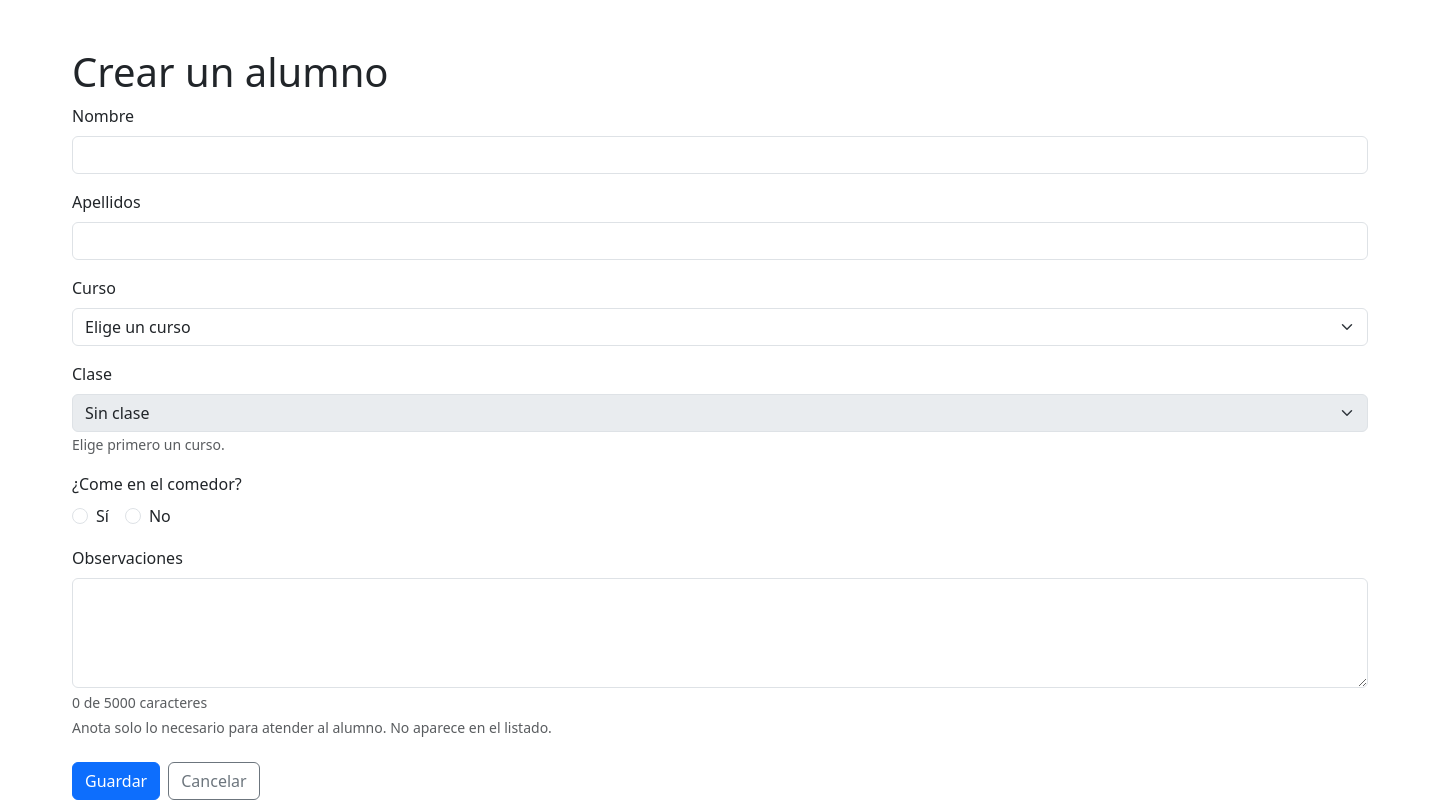
Test: CreateStudentPage › marks the class when it no longer exists, asking for the courses again
This screenshot has width=1440, height=810.
Type "Juan" into the field labelled "Nombre".
click(720, 155); type("Juan")  # box [72,136,1368,174]
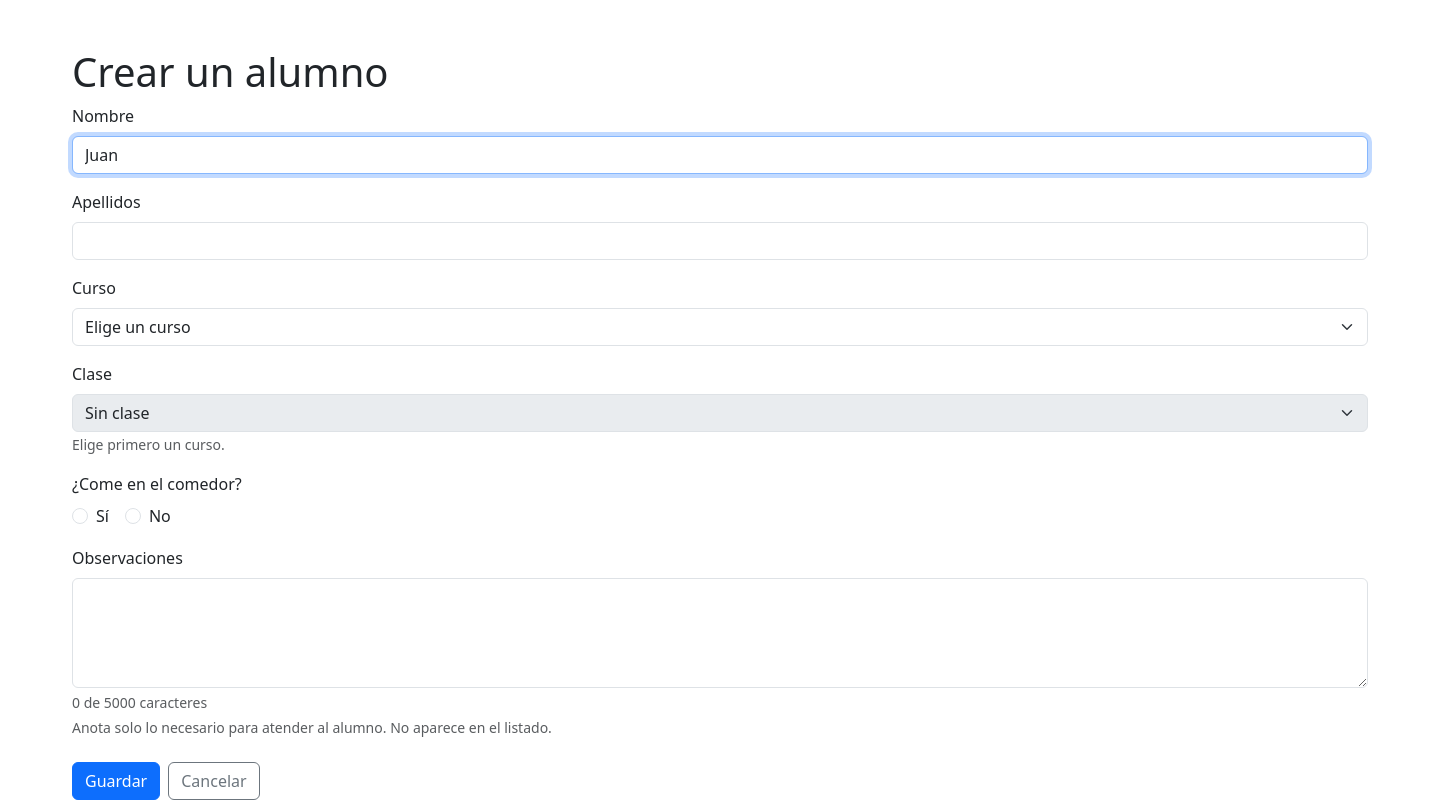
Type "García" into the field labelled "Apellidos".
click(720, 241); type("García")  # box [72,222,1368,260]
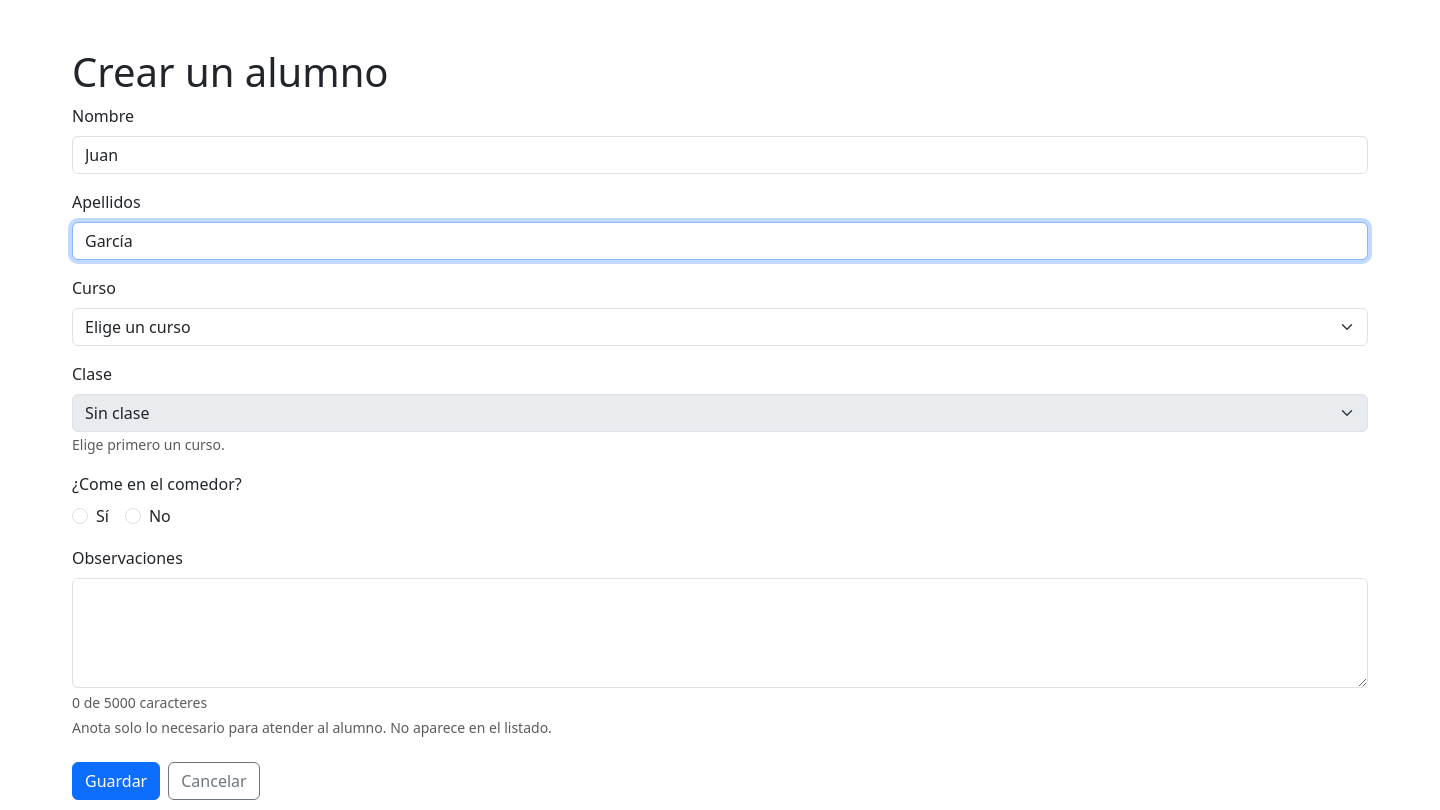
Select "1º Primaria" in the dropdown labelled "Curso" at (720, 327), box [72,308,1368,346]
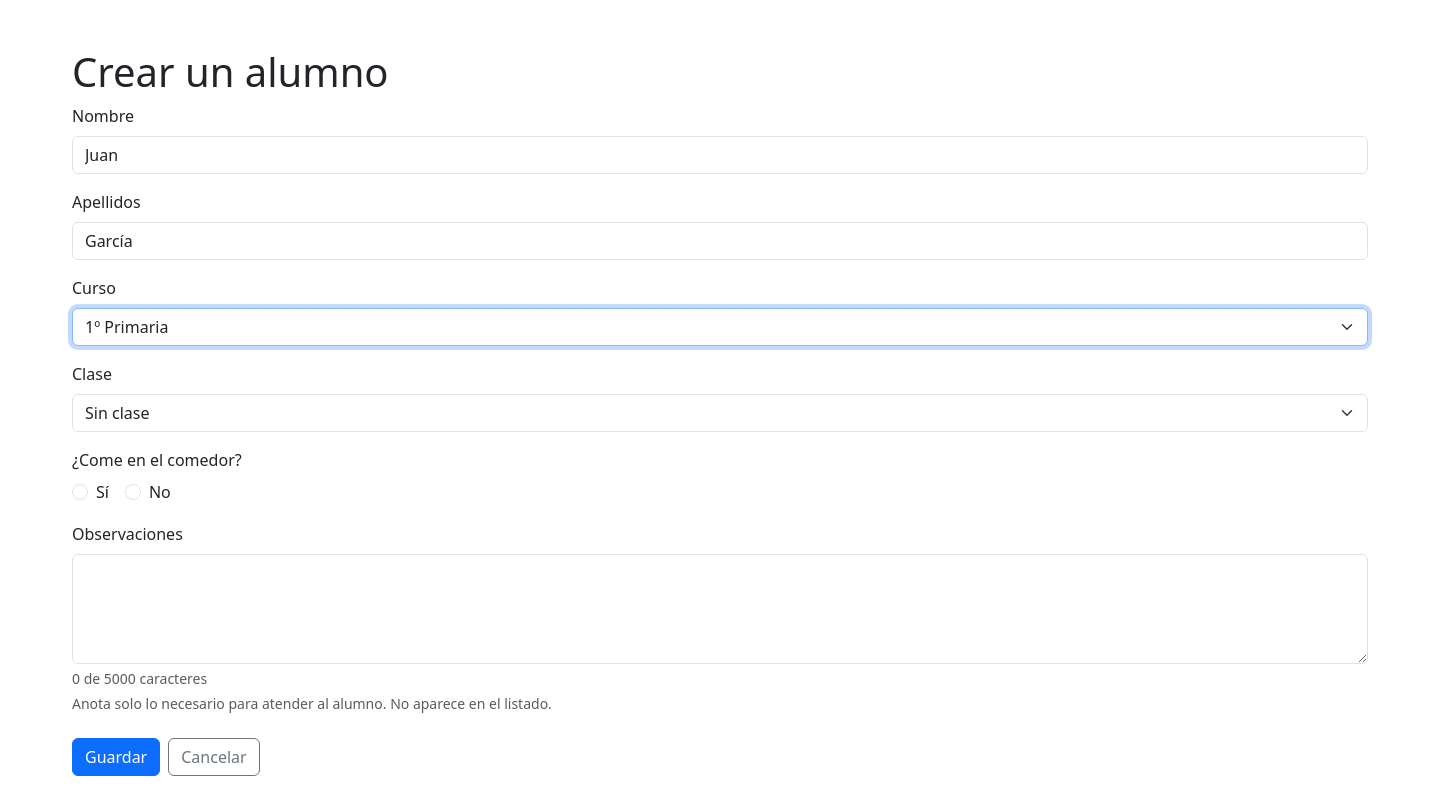
Click the radio button labelled "No".
click(133, 492)  # box [125,484,141,500]
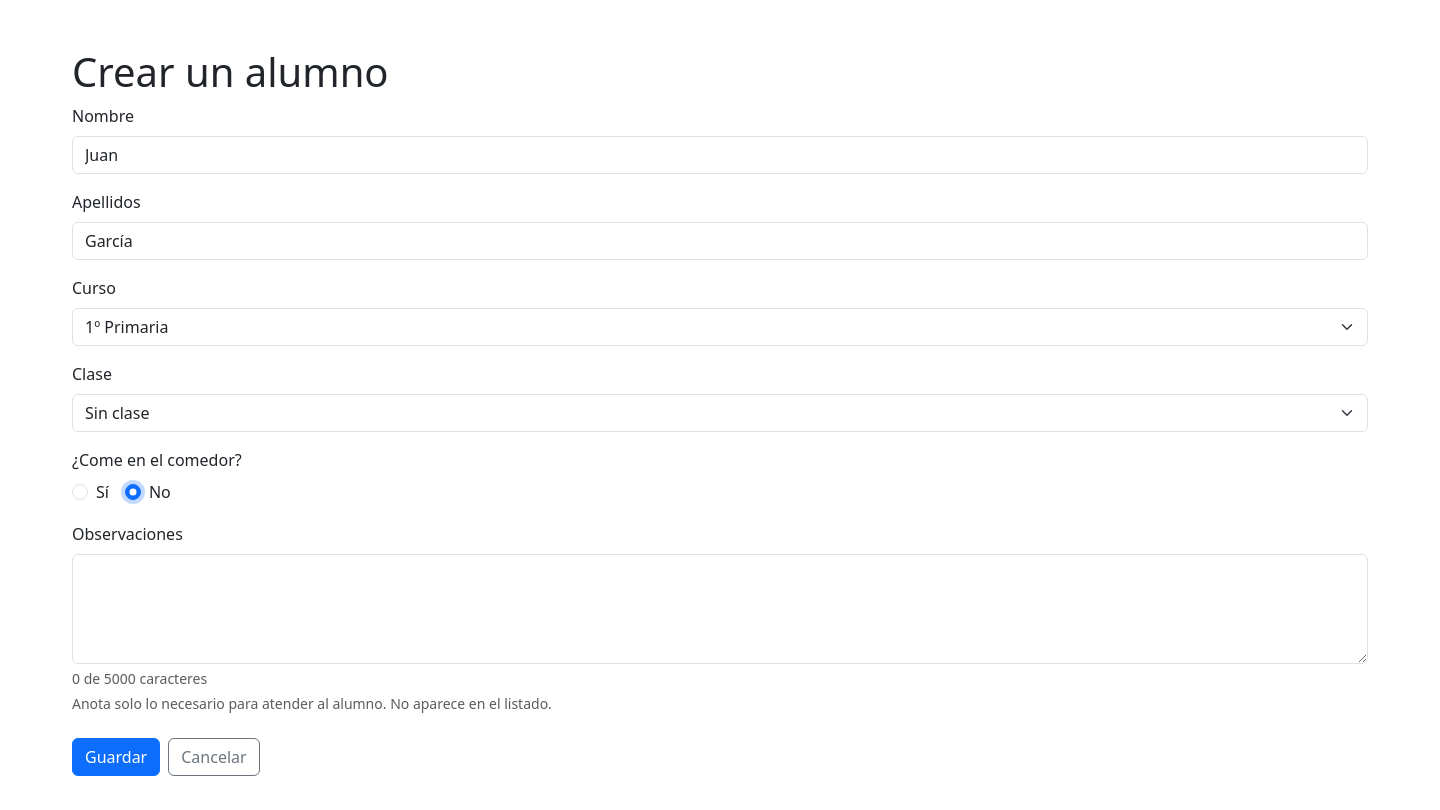
Select "A" in the dropdown labelled "Clase" at (720, 413), box [72,394,1368,432]
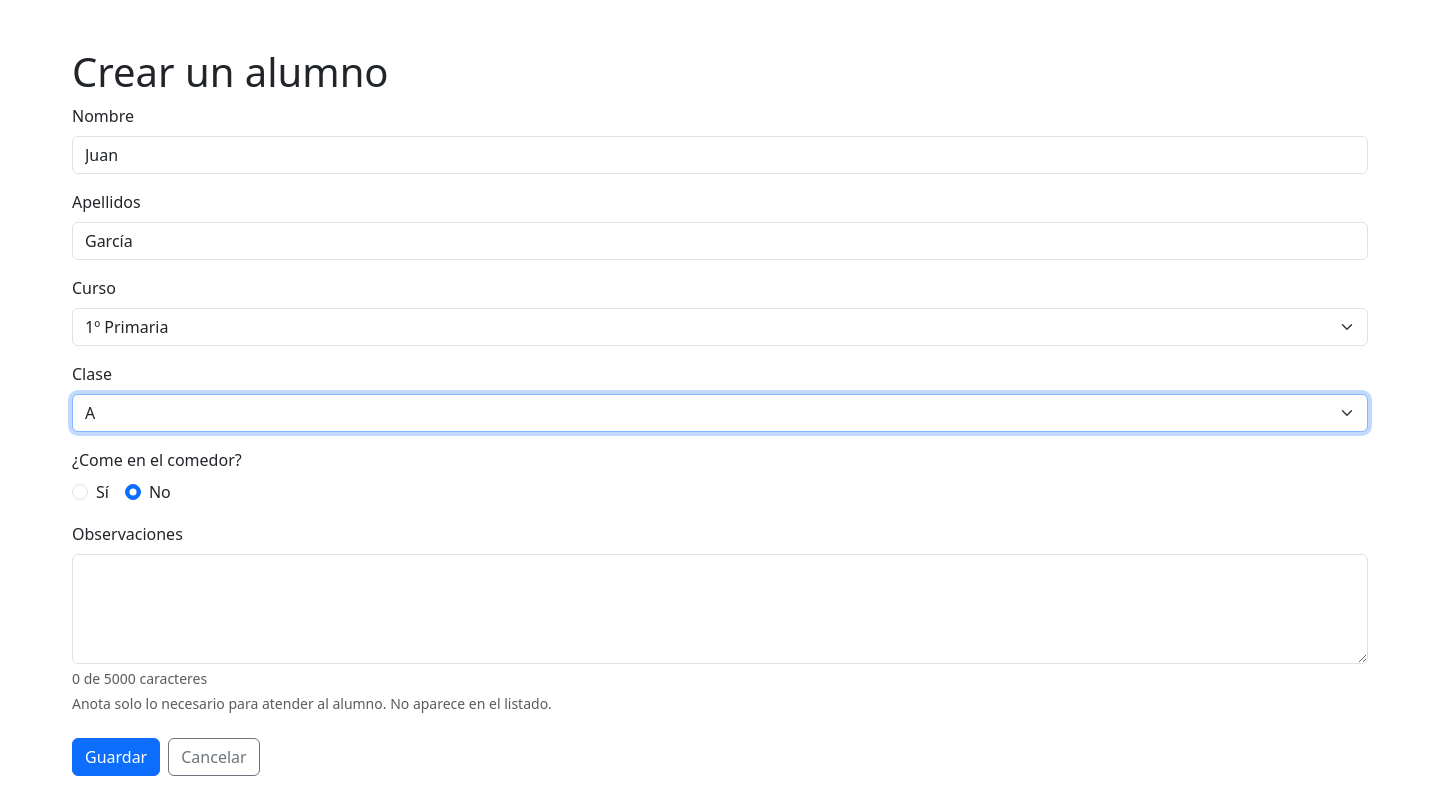
Click the button "Guardar".
click(116, 757)  # box [72,738,160,776]
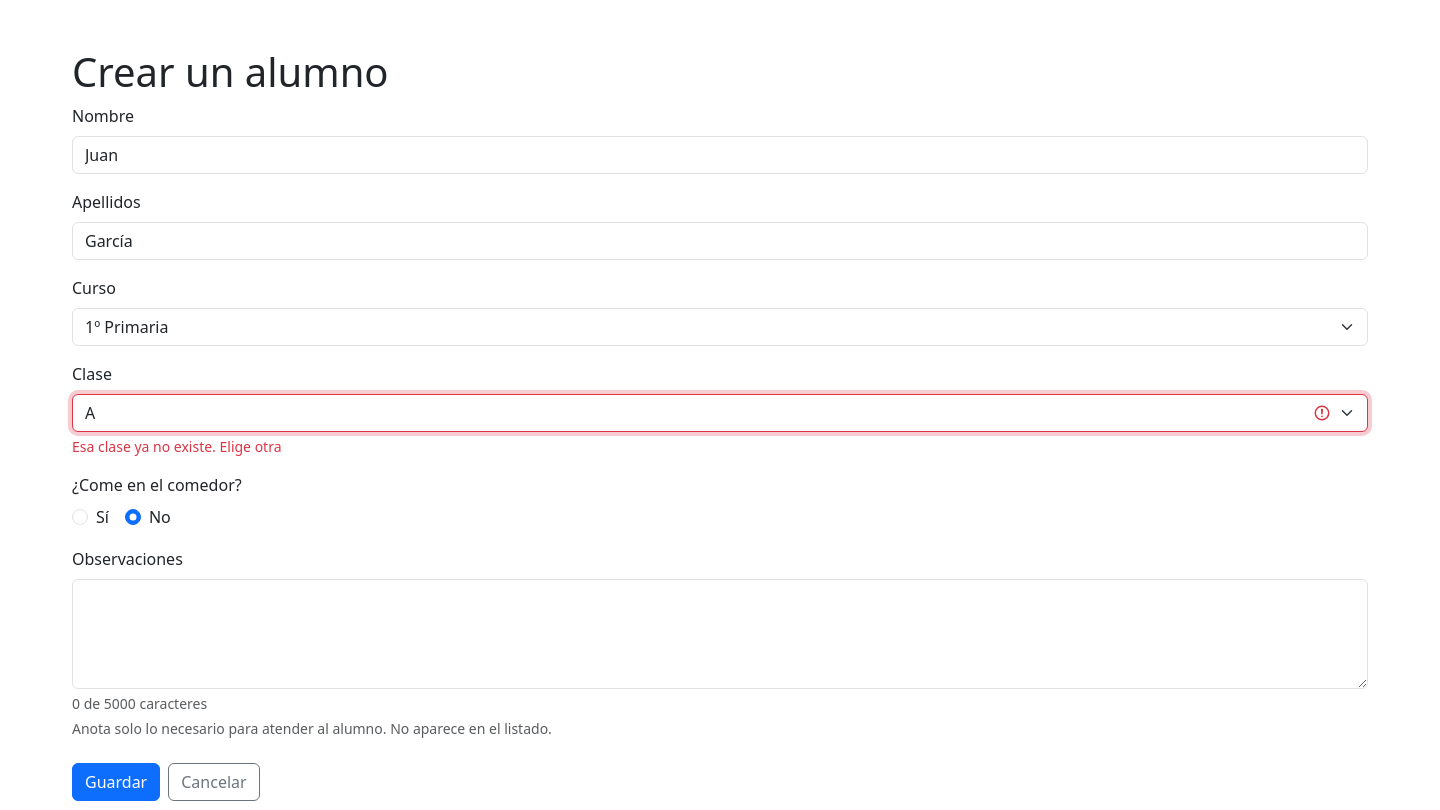
Expected: the text "Esa clase ya no existe. Elige otra" is shown, [72,437,282,456]
